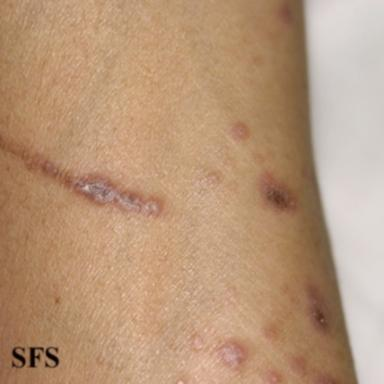lichen: (0, 136, 168, 217), (259, 174, 301, 212), (306, 284, 334, 336), (291, 357, 341, 383), (219, 343, 245, 368), (276, 0, 297, 25), (229, 121, 251, 141), (203, 169, 224, 188), (260, 323, 278, 342), (262, 370, 282, 383), (191, 334, 203, 350)
